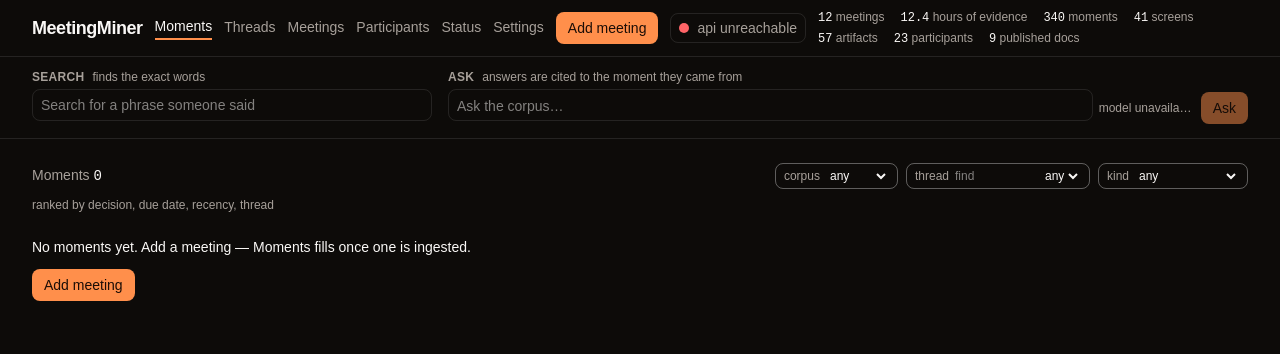
Test case: App › opens participant curation through the Shell entry point
This screenshot has width=1280, height=354.
Click the link "Participants".
click(393, 28)  # box [356, 17, 430, 39]
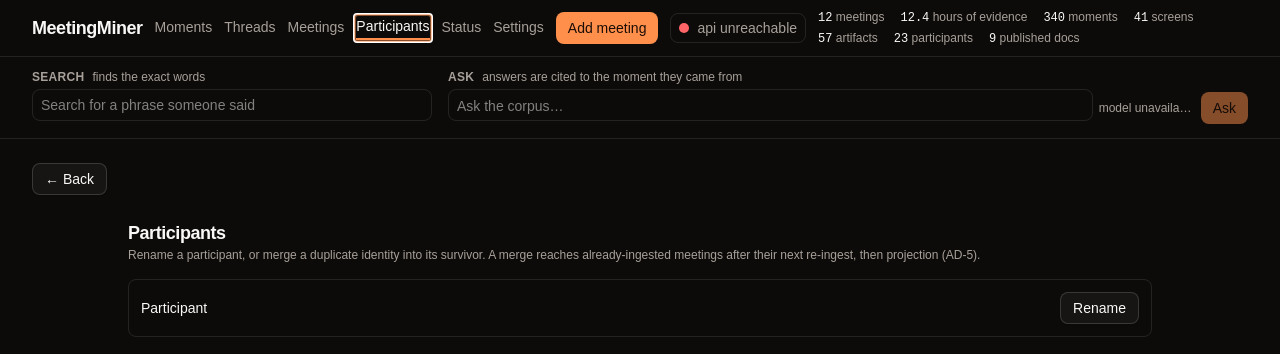
Now the heading "Participants" is shown, box [128, 223, 226, 243]
Now the list item with test id "participant-row-participant-1" is shown, box [128, 279, 1152, 337]
